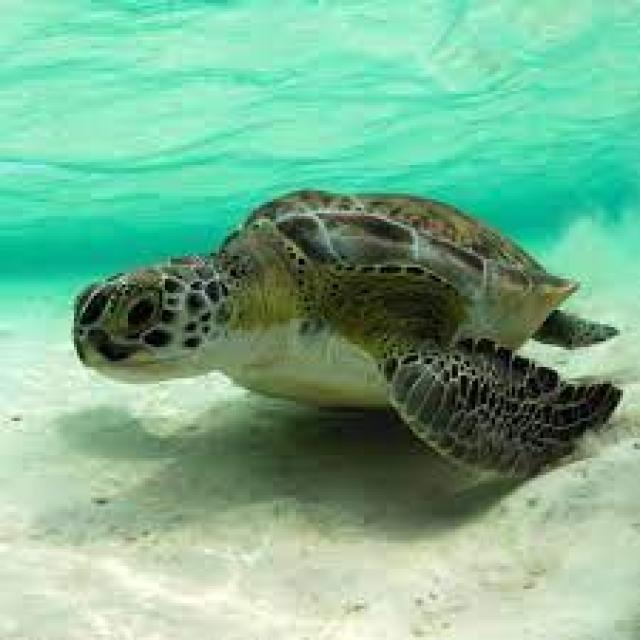Green-Sea-Turtle -Endangered-: (70, 190, 619, 480)
